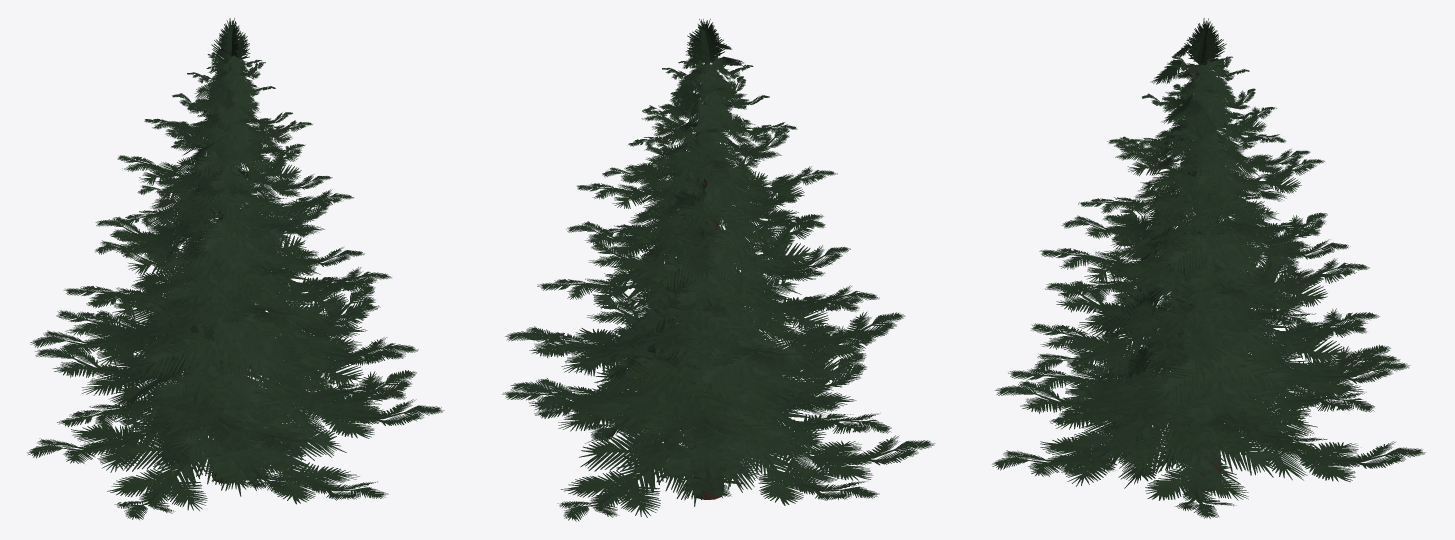
File: spruce.glb
The picture shows the model from 3 angles, left to right: view 1: azimuth 30°, elevation 25°; view 2: azimuth 150°, elevation 25°; view 3: azimuth 270°, elevation 25°; orthographic projection. The views are drawn at different scales.
Parts seen in each view (by area): view 1: Branch_64_M_Pine_Branch_0; view 2: Branch_64_M_Pine_Branch_0; view 3: Branch_64_M_Pine_Branch_0.
Part boxes in pixels (left/top/right/bottom): Branch_64_M_Pine_Branch_0: left=27, top=18, right=444, bottom=519; Branch_64_M_Pine_Branch_0: left=502, top=18, right=934, bottom=521; Branch_64_M_Pine_Branch_0: left=992, top=18, right=1425, bottom=518.
Size of the model in its own units: 0.7116 by 0.7928 by 0.706.
Materials: 2 (1 with a texture image).
